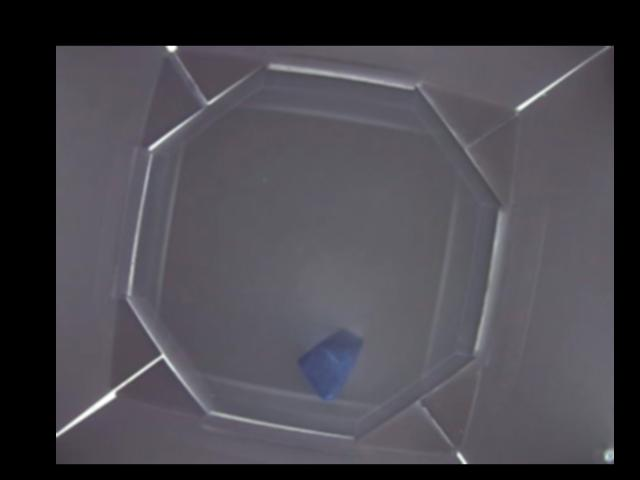Mooli: (300, 327, 365, 404)
